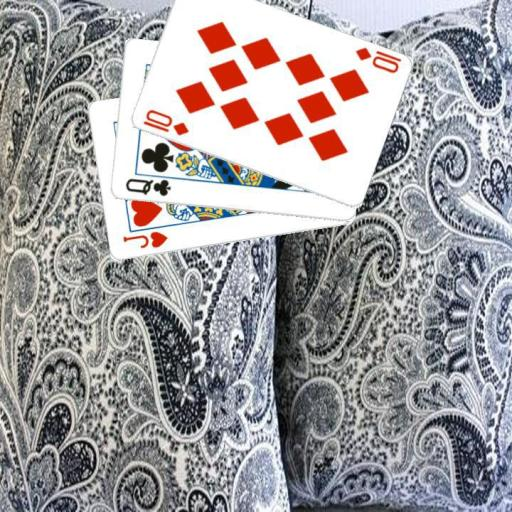10D: (352, 44, 403, 76), (139, 106, 190, 137)
JH: (120, 229, 169, 251)
QC: (122, 176, 172, 199)
